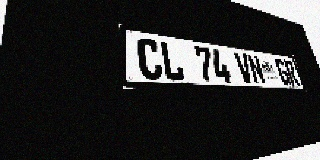4: (210, 48, 232, 83)
7: (193, 46, 217, 82)
C: (136, 37, 164, 80)
G: (274, 58, 292, 85)
L: (159, 41, 185, 81)
N: (246, 54, 266, 84)
R: (283, 60, 300, 86)
V: (234, 52, 254, 84)
